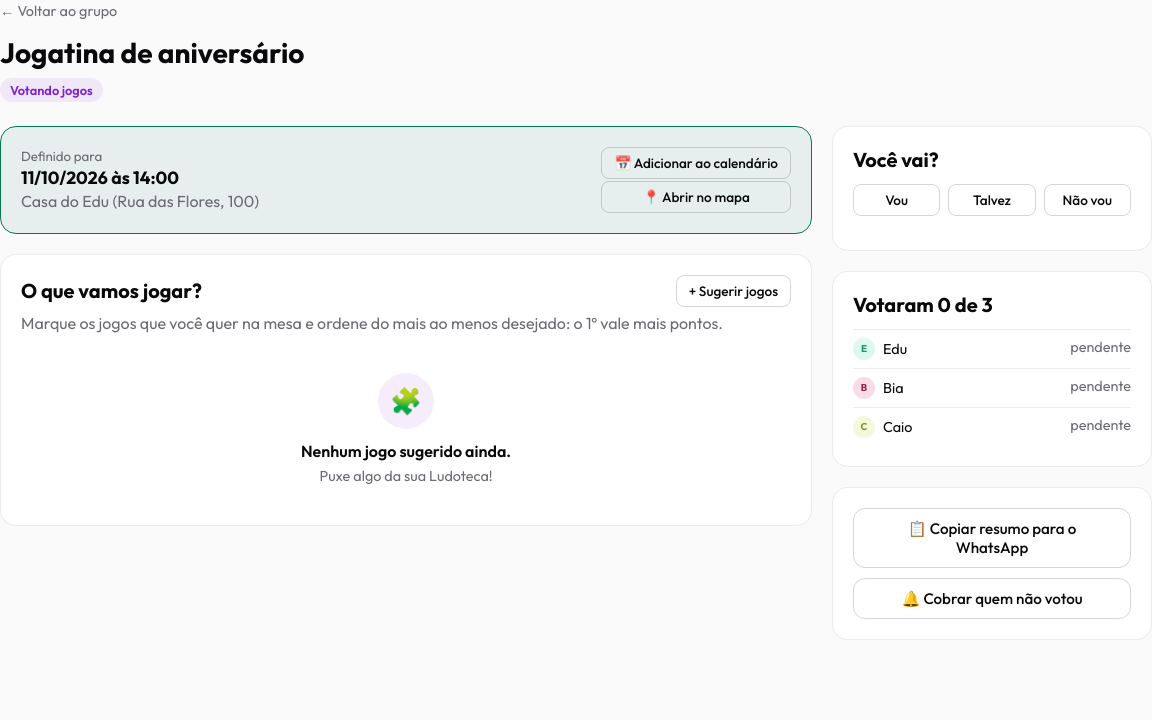
Scenario: Evento — sugerir jogos da ludoteca › mostra a duração e os jogadores de cada jogo
Click the button "+ Sugerir jogos". click: (733, 291)
box: left=676, top=275, right=791, bottom=307
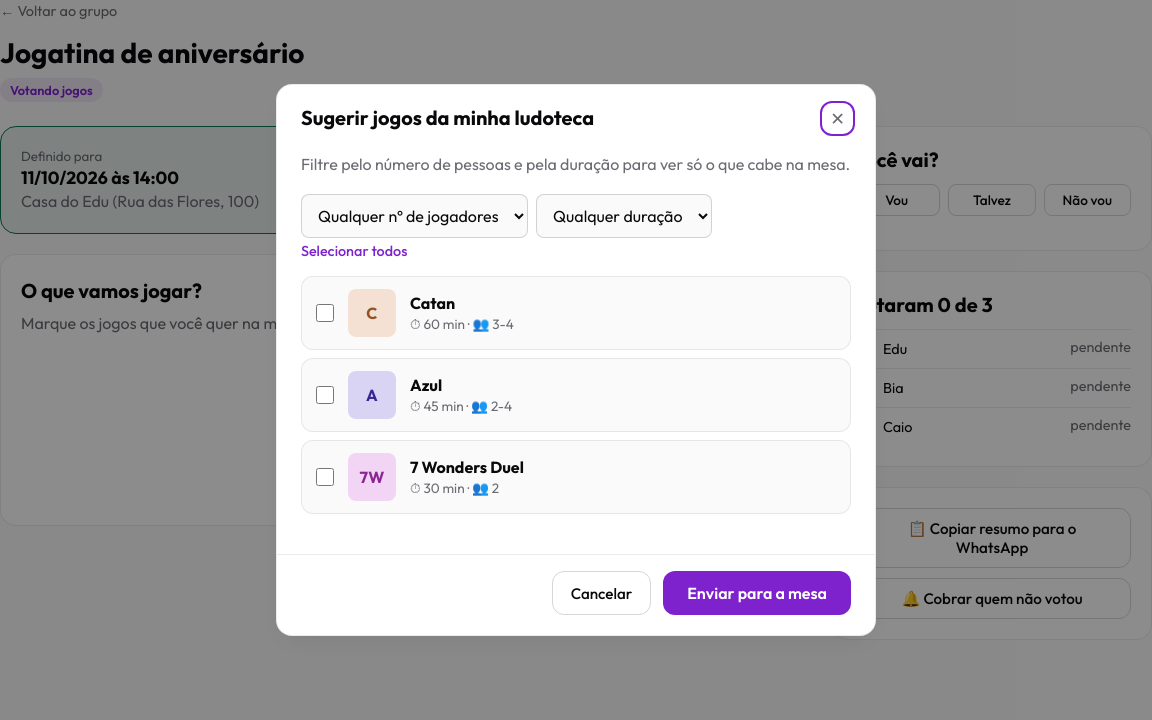
Expected: the text "Catan" is shown, left=410, top=293, right=455, bottom=313
Expected: the text "⏱ 60 min · 👥 3-4" is shown, left=410, top=315, right=514, bottom=333
Expected: the text "⏱ 30 min · 👥 2" is shown, left=410, top=479, right=499, bottom=497
